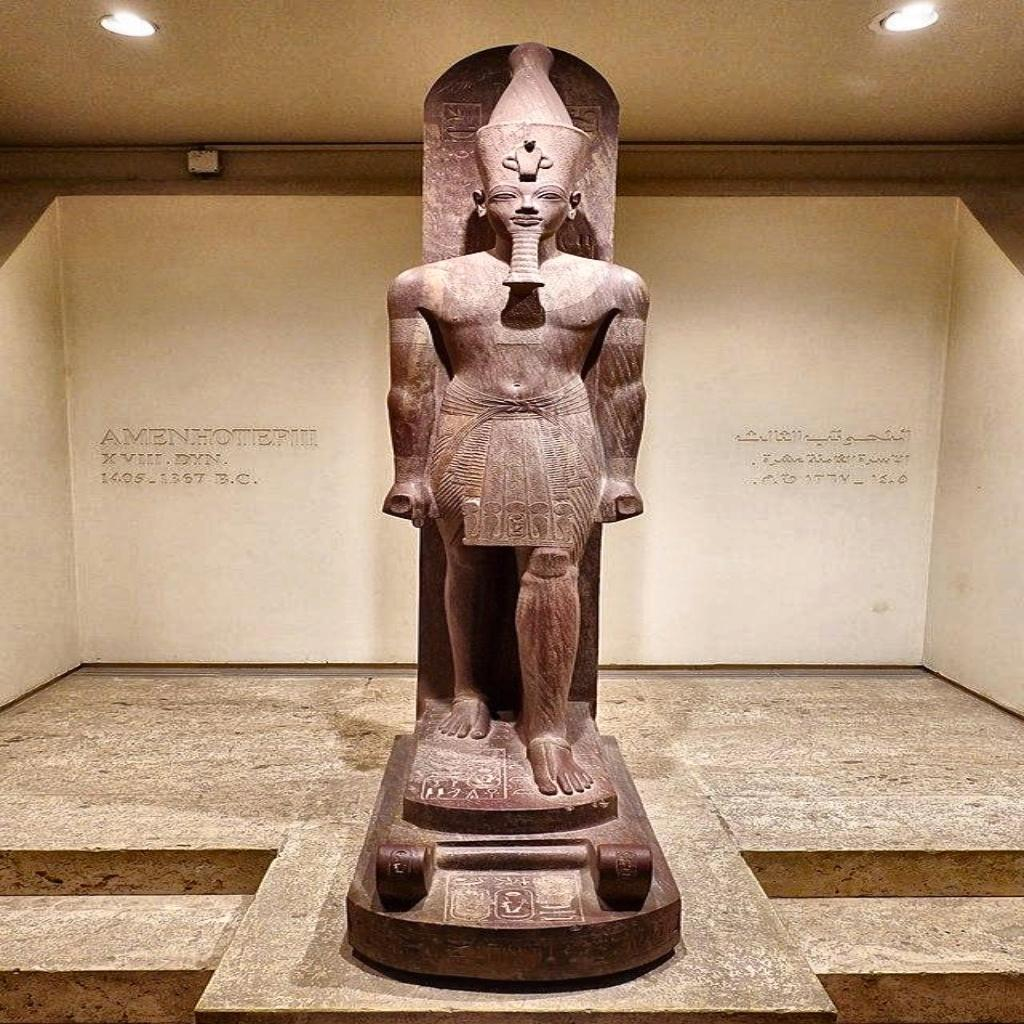Amenhotep III: (376, 40, 656, 799)
